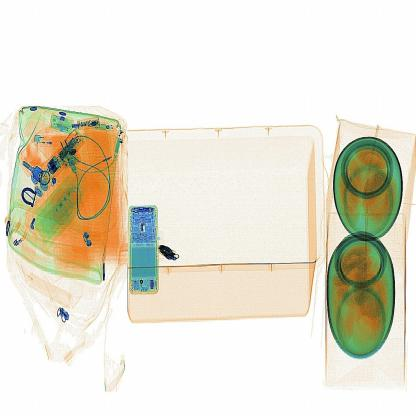scissors: (147, 230, 181, 271)
